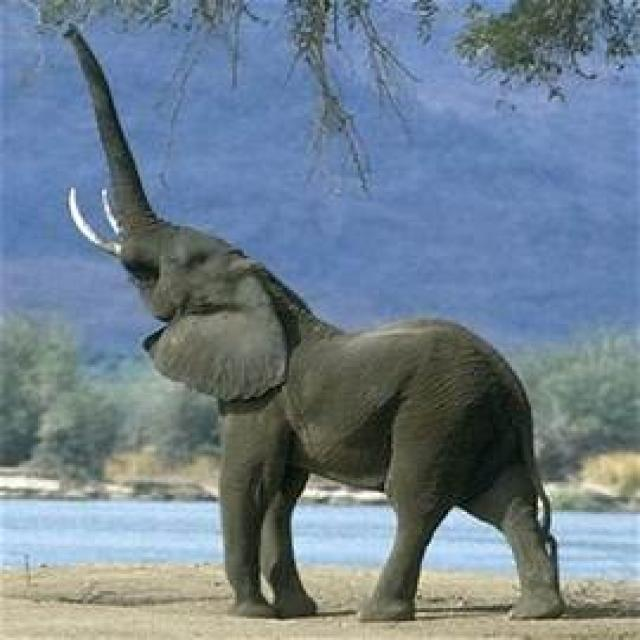elephant: (78, 41, 564, 625)
